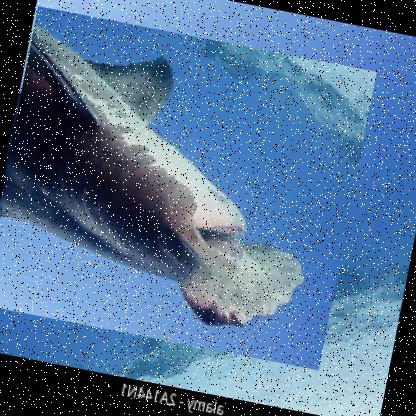hammerhead_Shark: (0, 6, 377, 372)
